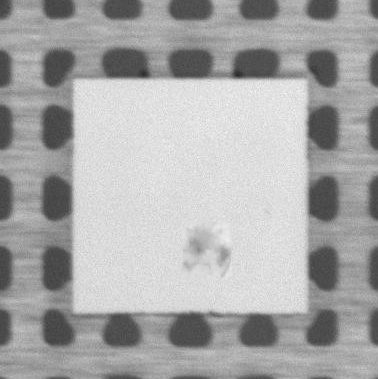DIE_INK: (177, 220, 234, 282)
